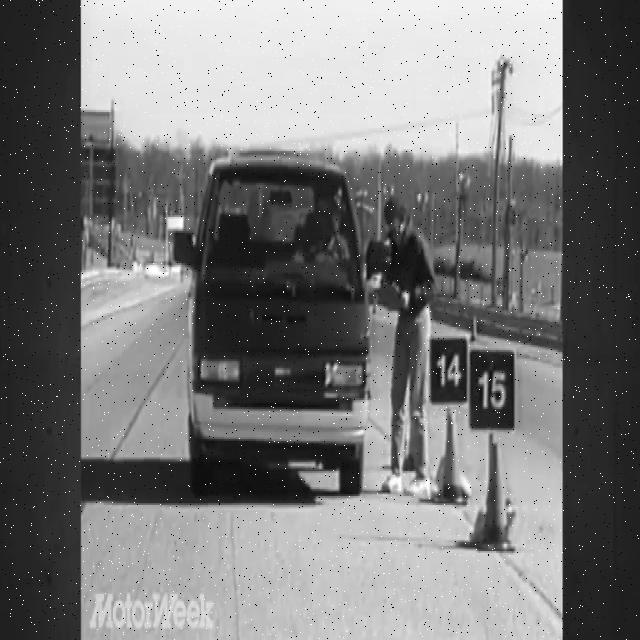Van: (181, 147, 376, 489)
